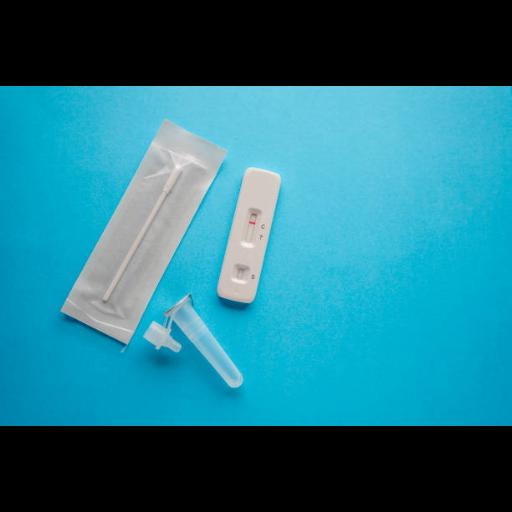Neg: (215, 165, 283, 304)
